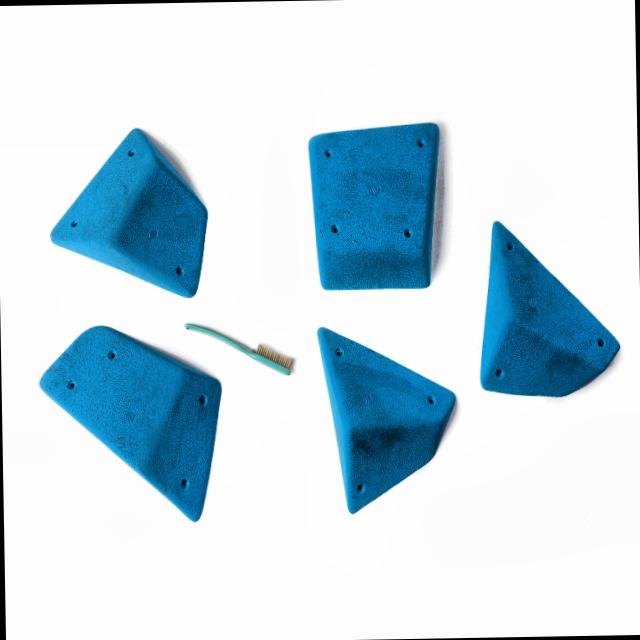Hold: (35, 316, 224, 526), (43, 118, 216, 305), (303, 316, 460, 518), (476, 213, 630, 403), (298, 114, 448, 292)
